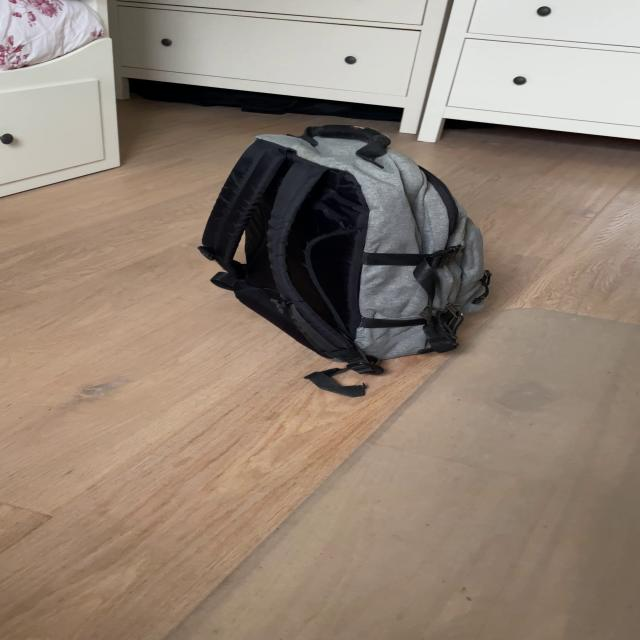backpack: (188, 111, 504, 374)
